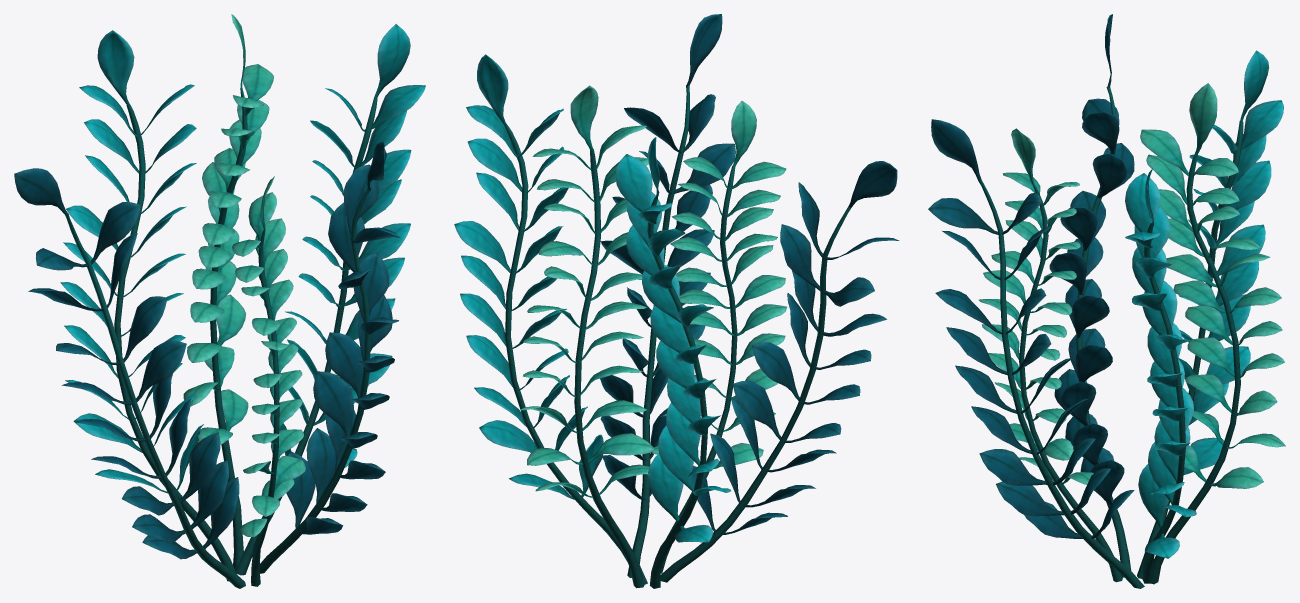
The model's file is Cartoon Seaweed_10_3.FBX.
3 views of the same model, side by side, from view 1: azimuth 30°, elevation 25°; view 2: azimuth 150°, elevation 25°; view 3: azimuth 270°, elevation 25° (orthographic). The views are drawn at different scales.
Visible parts, largest first — view 1: Cartoon Seaweed 10.3; view 2: Cartoon Seaweed 10.3; view 3: Cartoon Seaweed 10.3.
Boxes of the visible parts, bbox=[...] form: Cartoon Seaweed 10.3: bbox=[14, 14, 425, 588]; Cartoon Seaweed 10.3: bbox=[454, 14, 899, 588]; Cartoon Seaweed 10.3: bbox=[928, 14, 1285, 588].
Size of the model in its own units: 24.44 by 29.1 by 18.47.
